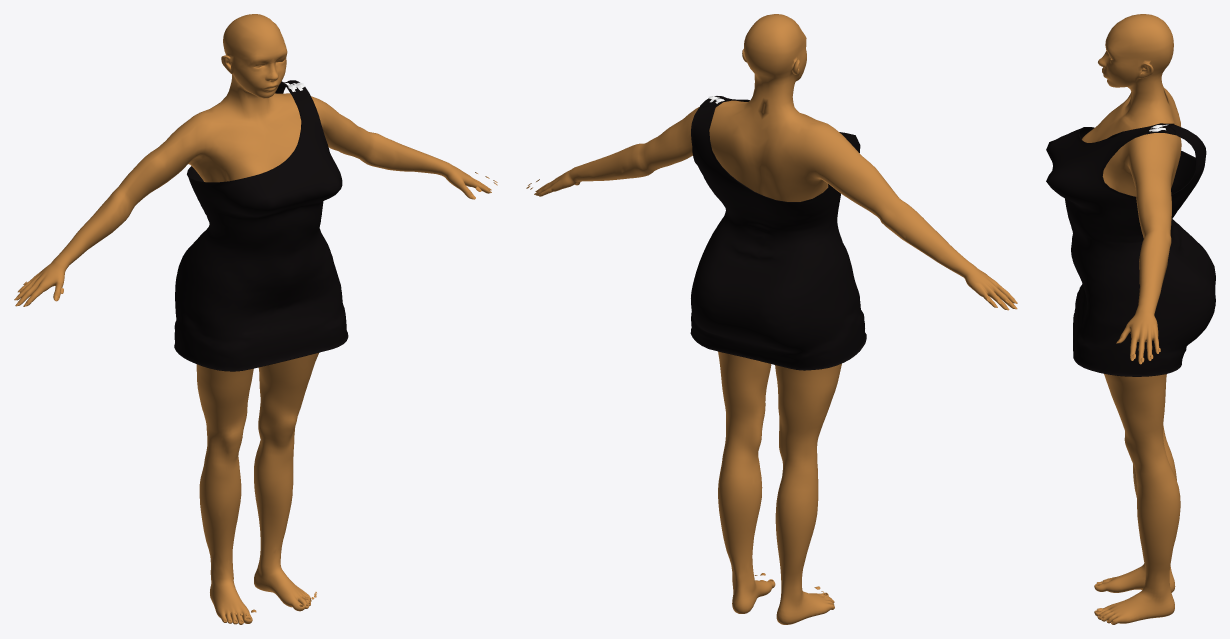
File: dress6.glb
3 views of the same model, side by side, from view 1: azimuth 30°, elevation 25°; view 2: azimuth 150°, elevation 25°; view 3: azimuth 270°, elevation 25° (orthographic).
Parts seen in each view (by area): view 1: Body.003, WhiteDress; view 2: Body.003, WhiteDress; view 3: Body.003, WhiteDress.
Part boxes in pixels (x1,y1,x2,y2): Body.003: [16, 14, 491, 624]; WhiteDress: [174, 80, 348, 371]; Body.003: [535, 14, 1014, 624]; WhiteDress: [690, 96, 866, 370]; Body.003: [1082, 14, 1181, 624]; WhiteDress: [1046, 123, 1215, 376].
Size of the model in its own units: 1.6 by 1.85 by 0.4845.
